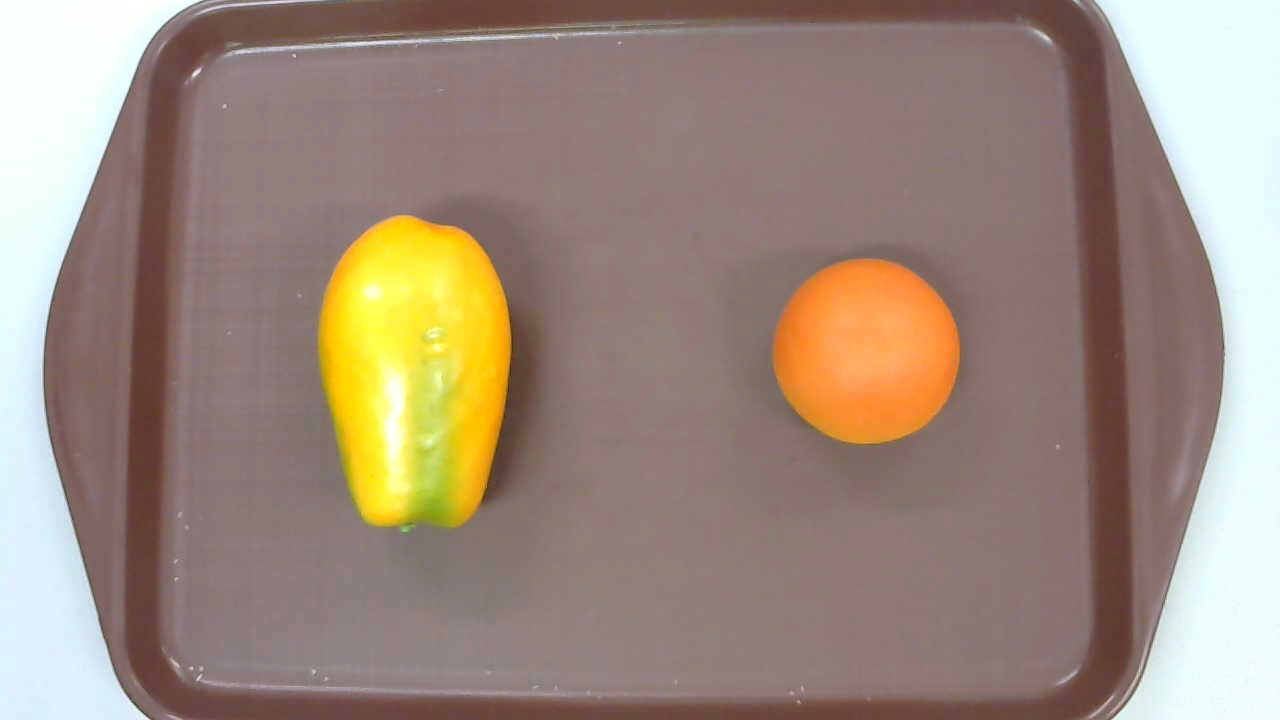bun: (772, 258, 960, 446)
papya: (317, 215, 511, 533)
